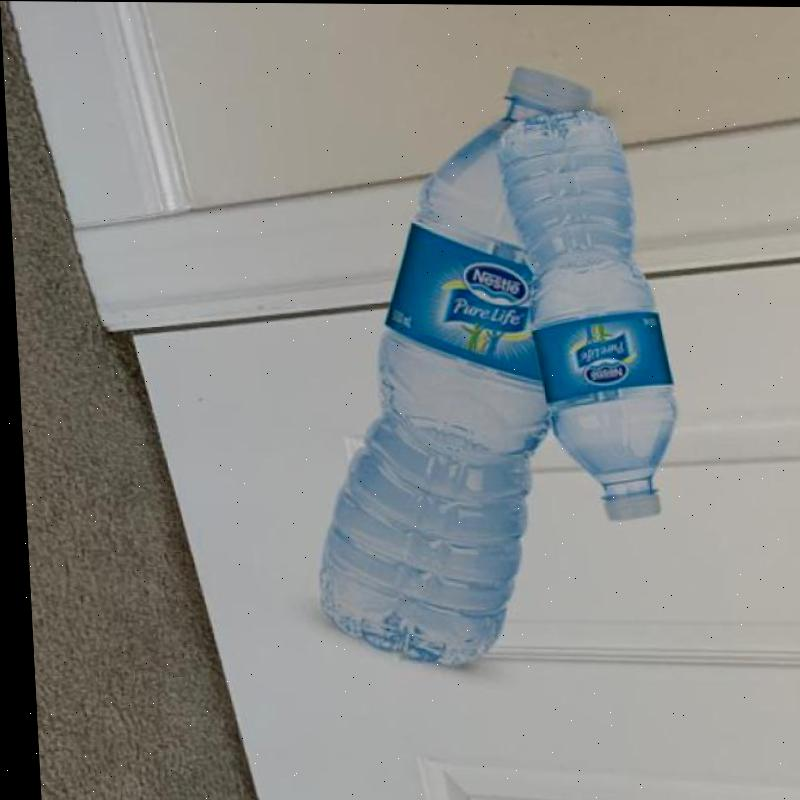botella: (295, 62, 619, 663), (495, 105, 680, 517)
